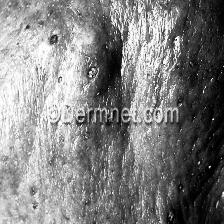Benign Marking or Mole: (188, 66, 224, 158), (166, 182, 189, 224), (26, 183, 48, 222), (40, 23, 64, 55), (82, 64, 106, 85)
